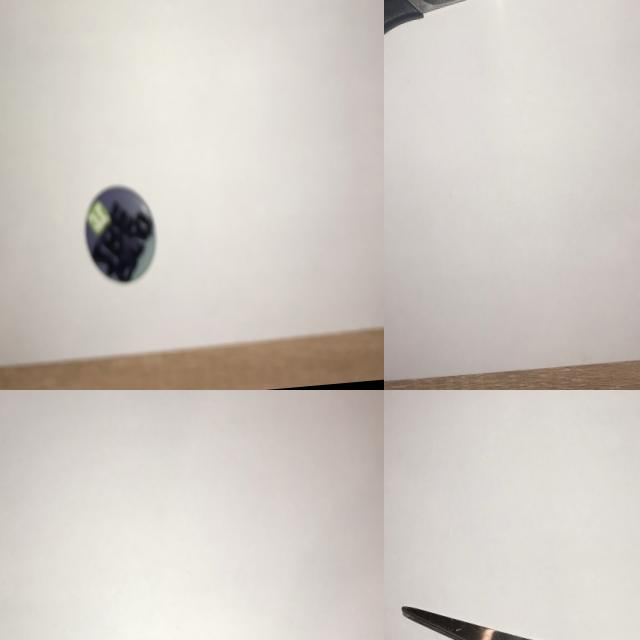icon: (76, 178, 164, 294)
scissors: (384, 0, 596, 98), (393, 568, 640, 640)
